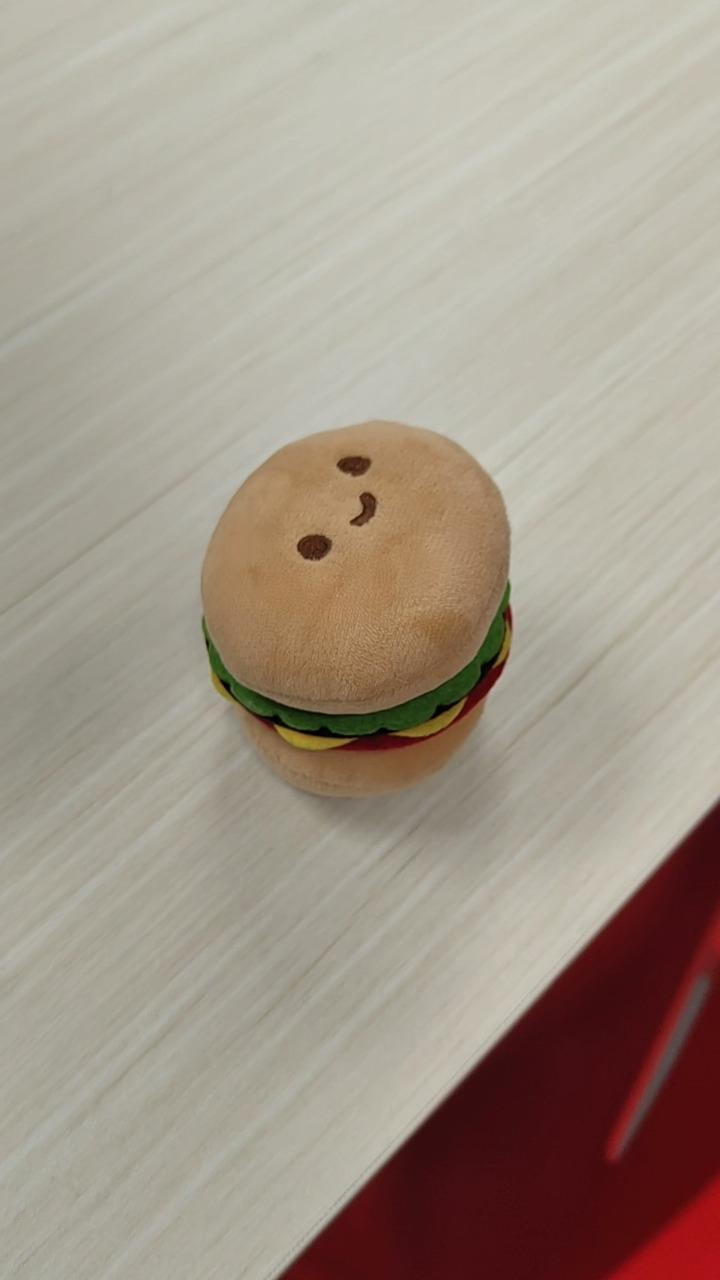hamburger: (198, 418, 514, 800)
